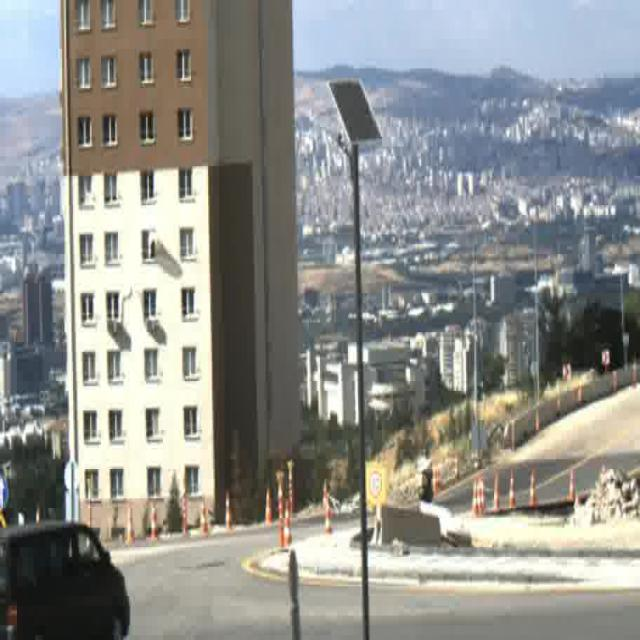Car: (0, 519, 132, 640)
Motorcycle: (413, 446, 436, 508)
